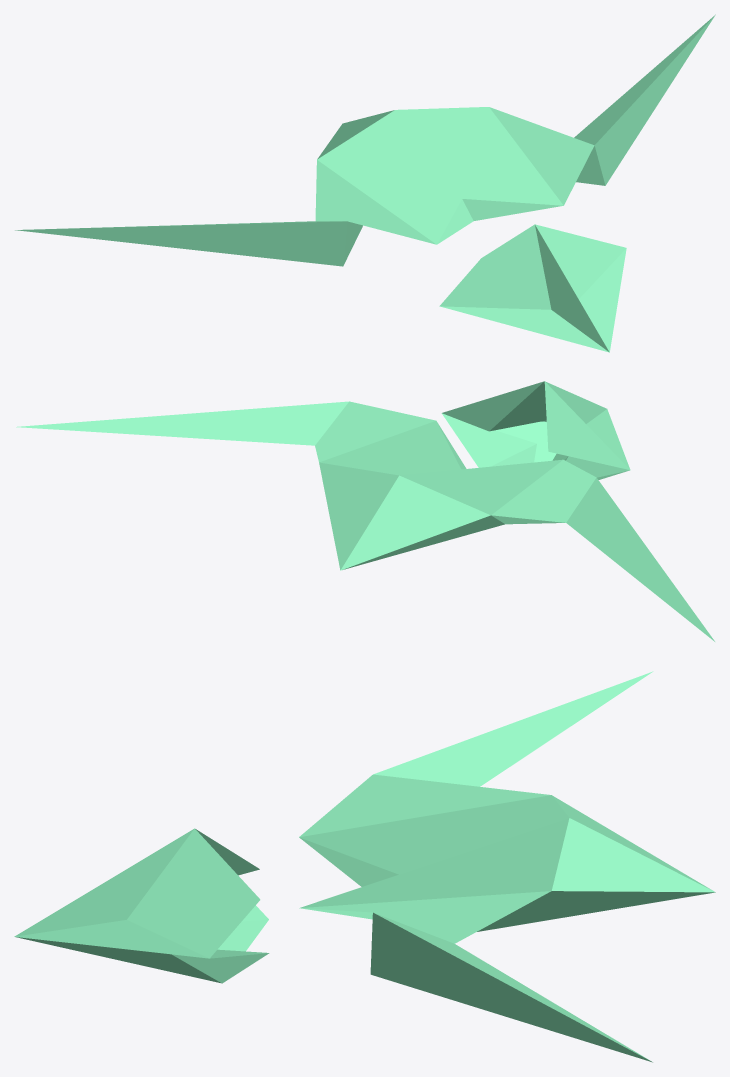
Rendered from playerShoot.glb.
3 views of the same model, one above another, from view 1: azimuth 30°, elevation 25°; view 2: azimuth 150°, elevation 25°; view 3: azimuth 270°, elevation 25° (orthographic). The views are drawn at different scales.
Visible parts, largest first — view 1: Shoot; view 2: Shoot; view 3: Shoot.
Part boxes in pixels (x1,y1,x2,y2): Shoot: (15,14,715,352); Shoot: (16,381,714,641); Shoot: (14,671,715,1062).
Bounding box in the file's own units: 6.1 × 1.03 × 4.02.
